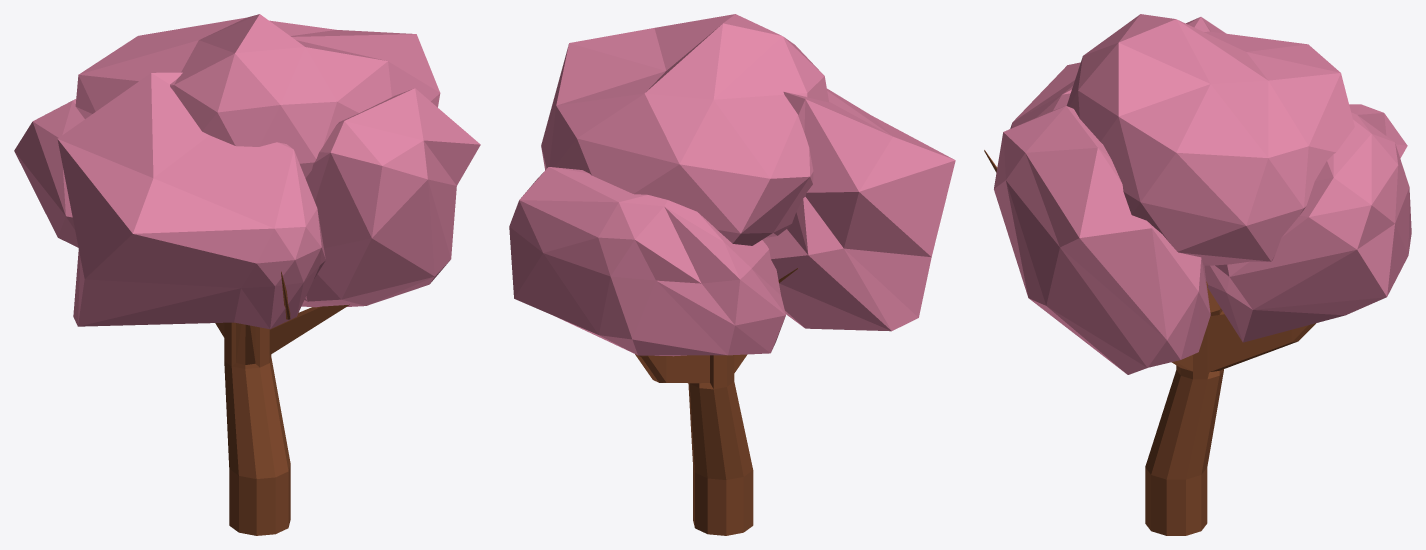
The model's file is pink.fbx.
3 renders of one model, left to right at view 1: azimuth 30°, elevation 25°; view 2: azimuth 150°, elevation 25°; view 3: azimuth 270°, elevation 25°, orthographic.
Parts seen in each view (by area): view 1: Cylinder.003; view 2: Cylinder.003; view 3: Cylinder.003.
Boxes of the visible parts, x1,y1,x2,y2 form: Cylinder.003: [14, 14, 480, 535]; Cylinder.003: [509, 14, 955, 535]; Cylinder.003: [984, 14, 1411, 535].
Bounding box in the file's own units: 1356 × 1790 × 1375.
1 material, 1 textured.
